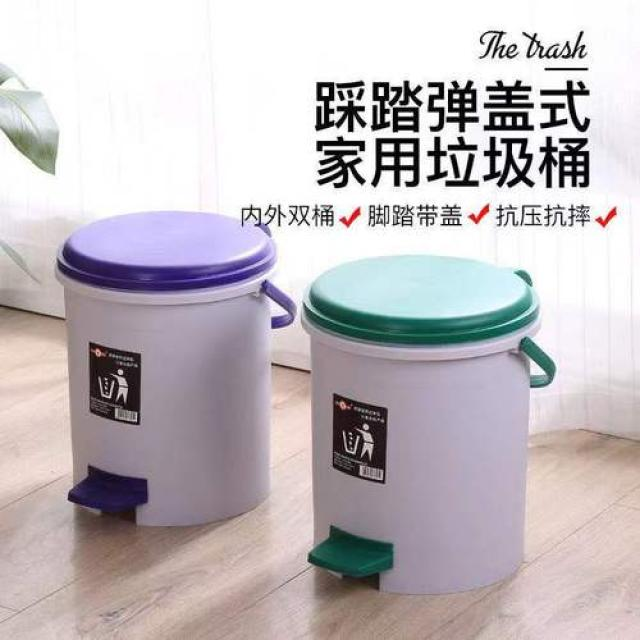dustbin: (300, 253, 560, 599), (40, 203, 298, 532)
